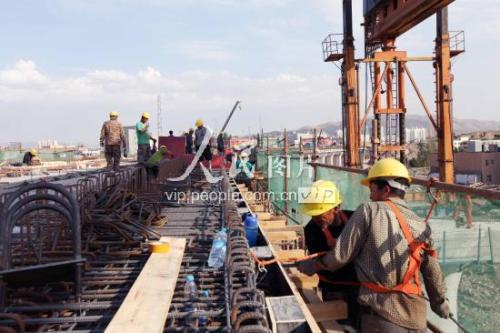helmet: (362, 153, 416, 208), (298, 176, 345, 226), (139, 111, 151, 125), (195, 118, 206, 132)
